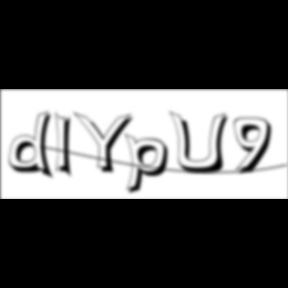9: (234, 117, 278, 177)
I: (55, 110, 79, 182)
U: (170, 110, 234, 176)
Y: (73, 110, 140, 176)
d: (9, 110, 59, 182)
p: (125, 132, 175, 198)
